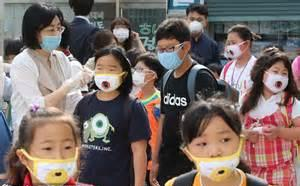OK: (35, 24, 64, 53), (96, 64, 125, 92), (159, 43, 187, 70), (266, 65, 289, 91), (134, 64, 155, 89), (228, 37, 249, 58), (187, 15, 206, 32), (114, 23, 131, 41)
WRONG: (192, 131, 241, 180), (34, 135, 78, 186)
